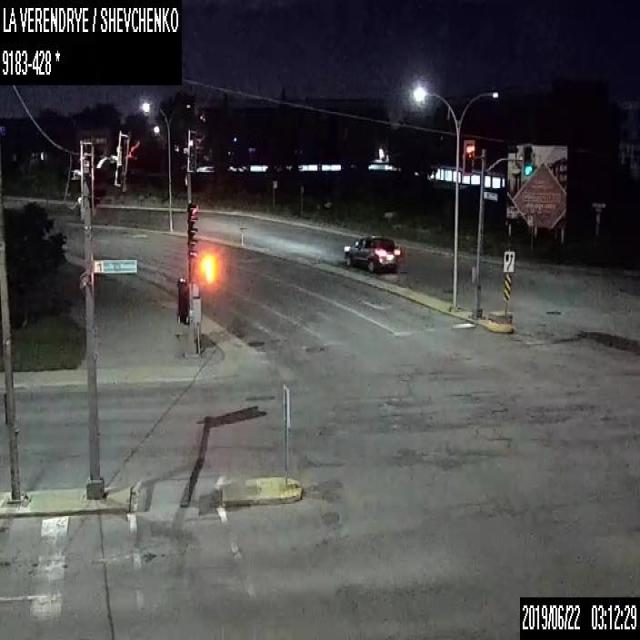vehicle: (342, 233, 400, 275)
